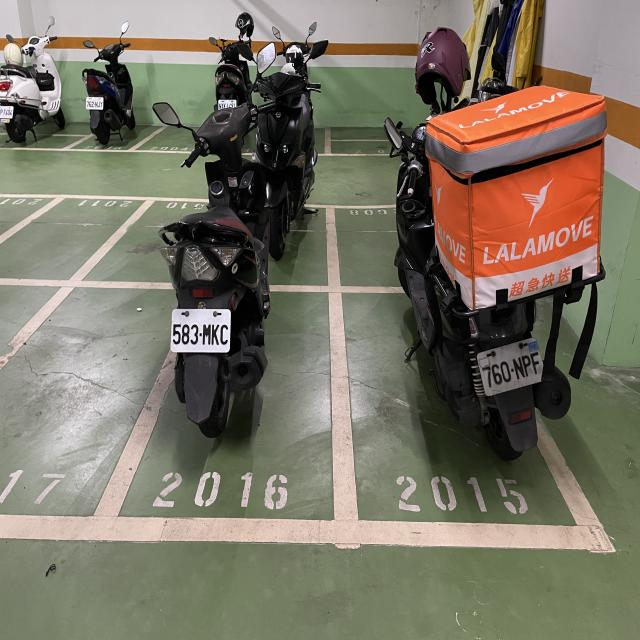license-plate: (477, 336, 547, 397), (170, 308, 232, 352), (85, 97, 104, 110)
